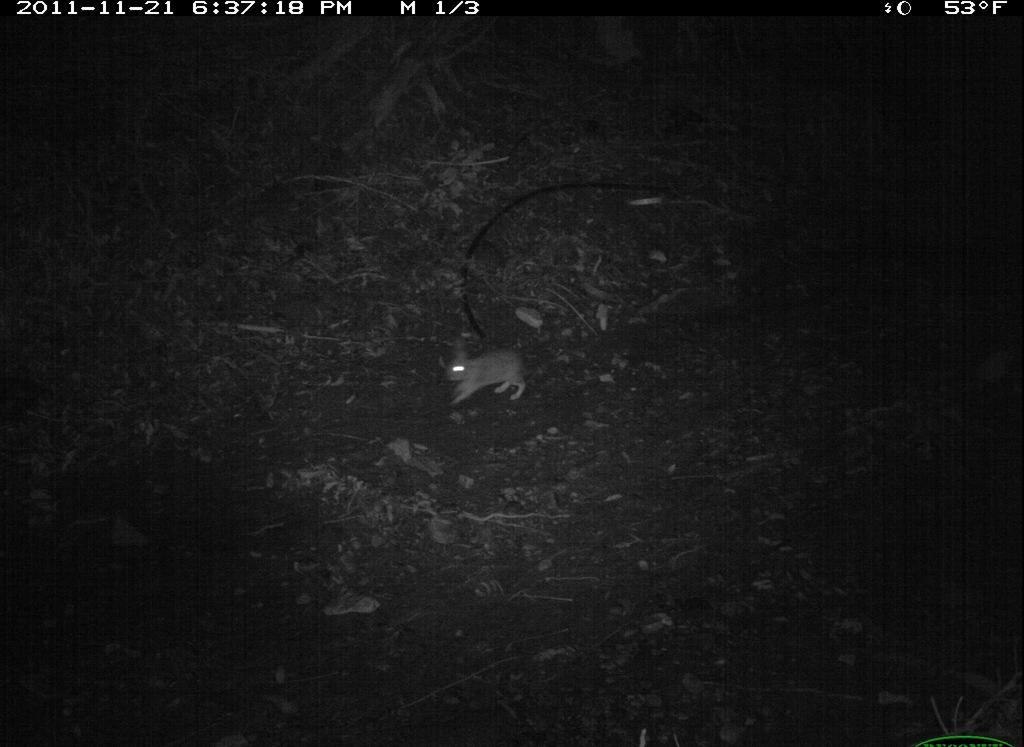rabbit: (434, 338, 538, 414)
